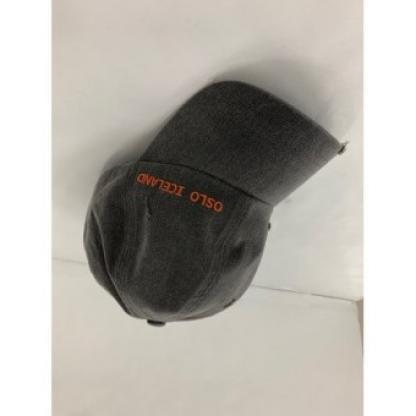cap: (74, 78, 353, 336)
